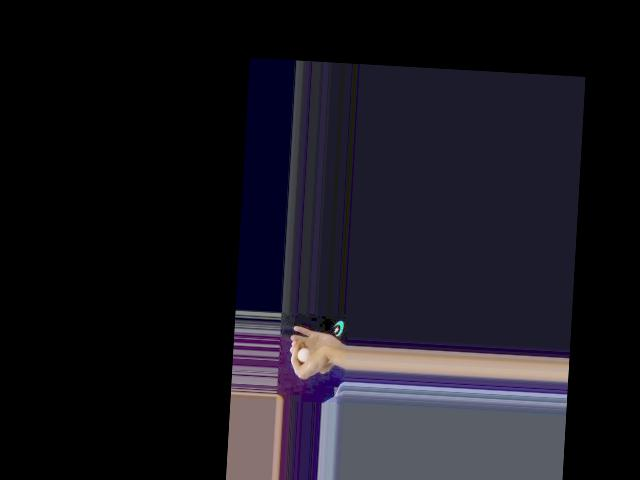egg: (297, 347, 309, 363)
